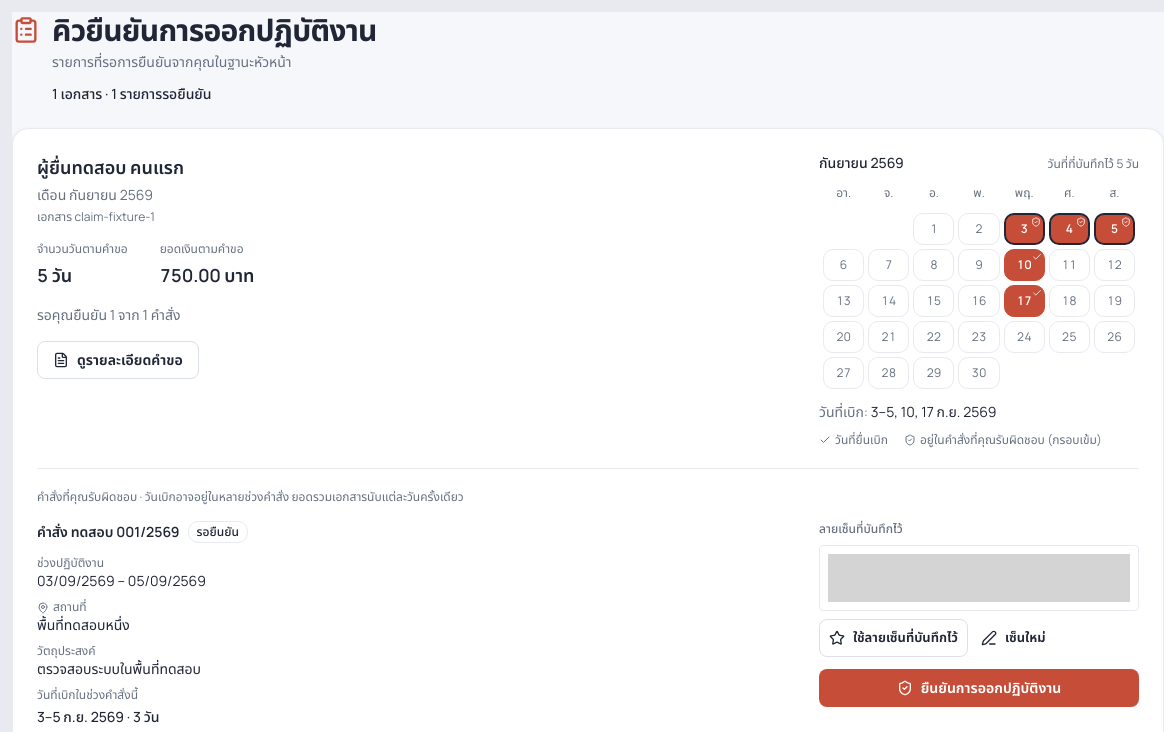
leader queue document review › retains a pending order after verification failure and blocks duplicate submission
Click the button "ยืนยันการออกปฏิบัติงาน": coordinates (979, 688) left=819, top=669, right=1139, bottom=707
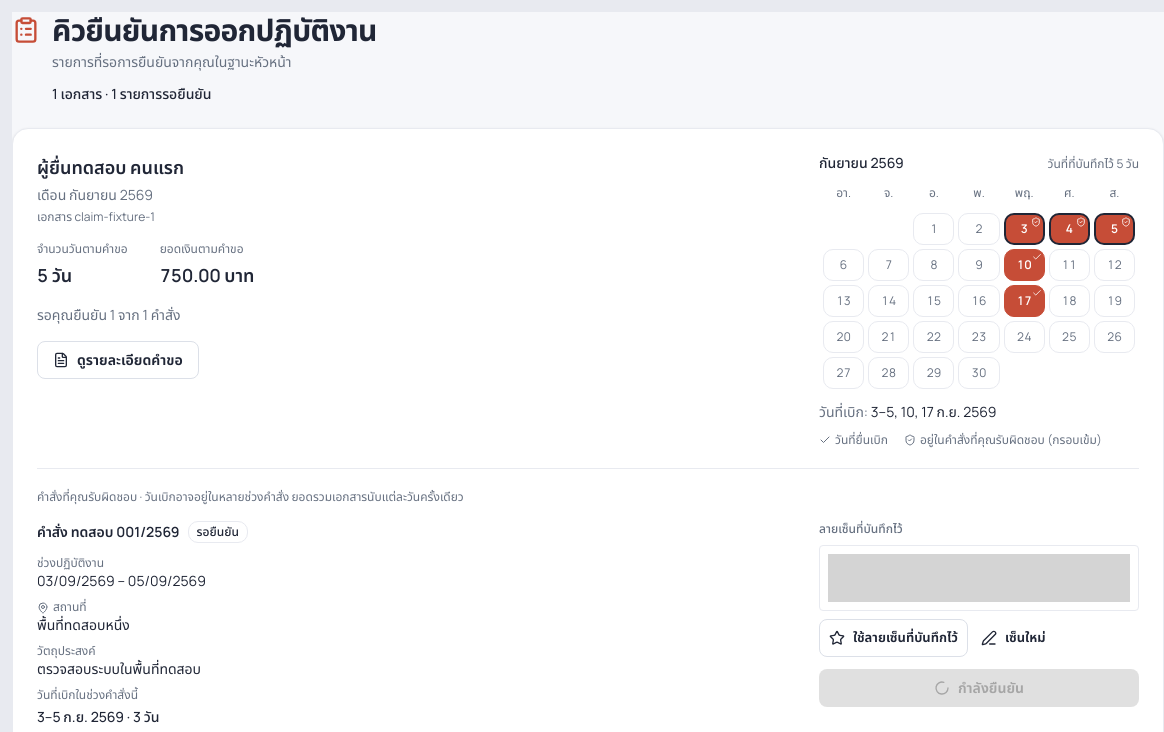
Expected: the button named "ยืนยันการออกปฏิบัติงาน" is disabled
Click the button named "ยืนยันการออกปฏิบัติงาน": coordinates (979, 688) left=819, top=669, right=1139, bottom=707
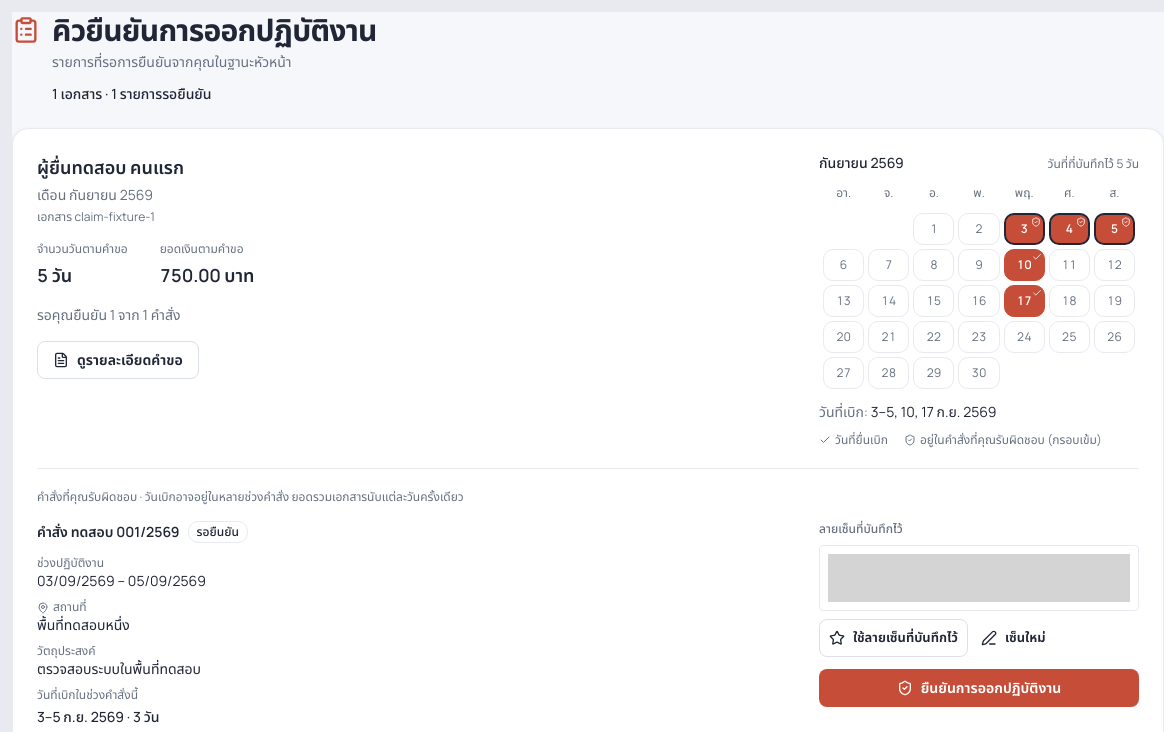
Expected: the text "1 เอกสาร · 1 รายการรอยืนยัน" is shown, left=52, top=84, right=212, bottom=103
Expected: the button "ยืนยันการออกปฏิบัติงาน" is enabled, left=819, top=669, right=1139, bottom=707
